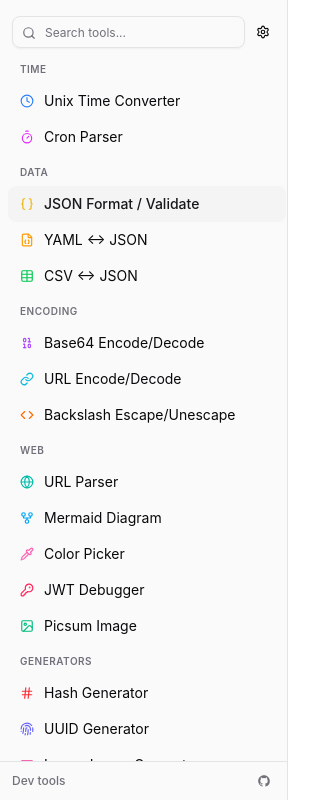
search matches tool descriptions
Type "human-readable" into the field with placeholder "Search tools..." at (128, 32), box [12,16,245,48]
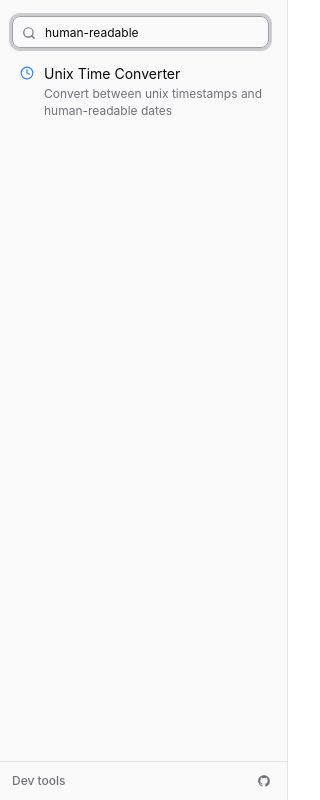
Expected: the text "Unix Time Converter" is shown, [44,65,180,82]
Expected: the text "Convert between unix timestamps and human-readable dates" is shown, [44,86,267,119]
